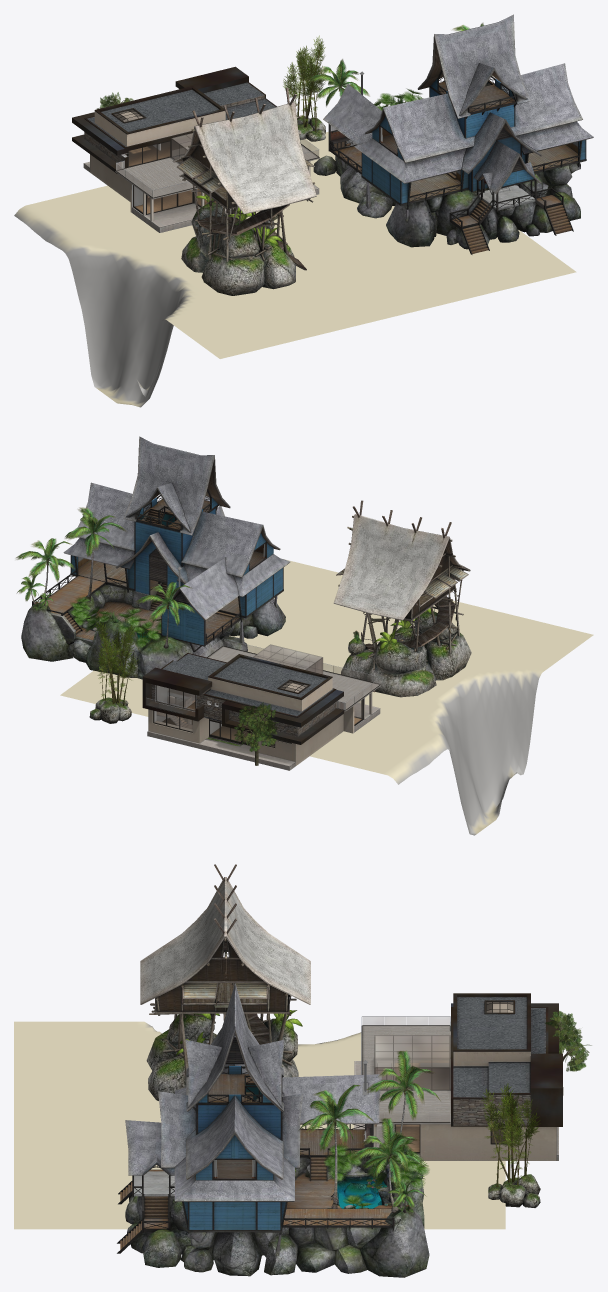
3 renders of one model, top to bottom at view 1: azimuth 30°, elevation 25°; view 2: azimuth 150°, elevation 25°; view 3: azimuth 270°, elevation 25°, orthographic. The views are drawn at different scales.
Visible parts, largest first — view 1: Terrain 1,2, prim0-mesh_0 (×12), Tiki Morunga house - brown_white (×2), MESHWORX The Retreat v1#9, MESHWORX The Retreat v1#76, Tiki Bamboo cluster (yellow) on reef rocks - landscape, MESHWORX The Retreat v1#3, MESHWORX The Retreat v1#55, MESHWORX The Retreat v1#75, MESHWORX The Retreat v1#31; view 2: prim0-mesh_0 (×15), Terrain 1,2, Tiki Morunga house - brown_white (×2), MESHWORX The Retreat v1#9, Tiki Bamboo cluster (yellow) on reef rocks - landscape, MESHWORX The Retreat v1#55, MESHWORX The Retreat v1#13, MESHWORX The Retreat v1#76, Tree small, MESHWORX The Retreat v1#59, * House Tiki Japan stile, MESHWORX The Retreat v1#35 (+4 smaller); view 3: prim0-mesh_0 (×16), Terrain 1,2, Tiki Morunga house - brown_white (×3), MESHWORX The Retreat v1#9, Tiki Bamboo cluster (yellow) on reef rocks - landscape, MESHWORX The Retreat v1#59, MESHWORX The Retreat v1#76, MESHWORX The Retreat v1#35, Tree small, MESHWORX The Retreat v1#77, MESHWORX The Retreat v1#3, MESHWORX The Retreat v1#69 (+1 smaller).
Boxes of the visible parts, x1=… form: Terrain 1,2: x1=14, y1=131, x2=576, y2=407; prim0-mesh_0 (×12): x1=307, y1=14, x2=593, y2=254; Tiki Morunga house - brown_white (×2): x1=172, y1=88, x2=316, y2=295; MESHWORX The Retreat v1#9: x1=72, y1=66, x2=276, y2=173; MESHWORX The Retreat v1#76: x1=115, y1=144, x2=319, y2=199; Tiki Bamboo cluster (yellow) on reef rocks - landscape: x1=283, y1=35, x2=325, y2=141; MESHWORX The Retreat v1#3: x1=132, y1=184, x2=319, y2=232; MESHWORX The Retreat v1#55: x1=90, y1=154, x2=142, y2=212; MESHWORX The Retreat v1#75: x1=125, y1=135, x2=319, y2=198; MESHWORX The Retreat v1#31: x1=126, y1=140, x2=171, y2=167; prim0-mesh_0 (×15): x1=16, y1=436, x2=290, y2=679; Terrain 1,2: x1=60, y1=559, x2=593, y2=835; Tiki Morunga house - brown_white (×2): x1=333, y1=500, x2=471, y2=697; MESHWORX The Retreat v1#9: x1=142, y1=653, x2=343, y2=744; Tiki Bamboo cluster (yellow) on reef rocks - landscape: x1=89, y1=621, x2=138, y2=723; MESHWORX The Retreat v1#55: x1=258, y1=706, x2=354, y2=765; MESHWORX The Retreat v1#13: x1=147, y1=731, x2=295, y2=770; MESHWORX The Retreat v1#76: x1=167, y1=646, x2=381, y2=711; Tree small: x1=234, y1=702, x2=278, y2=751; MESHWORX The Retreat v1#59: x1=148, y1=685, x2=221, y2=743; * House Tiki Japan stile: x1=132, y1=509, x2=176, y2=610; MESHWORX The Retreat v1#35: x1=253, y1=644, x2=322, y2=674; prim0-mesh_0 (×16): x1=117, y1=983, x2=440, y2=1277; Terrain 1,2: x1=14, y1=1021, x2=505, y2=1229; Tiki Morunga house - brown_white (×3): x1=140, y1=864, x2=310, y2=1100; MESHWORX The Retreat v1#9: x1=451, y1=993, x2=562, y2=1126; Tiki Bamboo cluster (yellow) on reef rocks - landscape: x1=481, y1=1083, x2=540, y2=1207; MESHWORX The Retreat v1#59: x1=420, y1=1124, x2=556, y2=1160; MESHWORX The Retreat v1#76: x1=361, y1=1026, x2=450, y2=1124; MESHWORX The Retreat v1#35: x1=374, y1=1035, x2=450, y2=1090; Tree small: x1=545, y1=1010, x2=591, y2=1071; MESHWORX The Retreat v1#77: x1=395, y1=1068, x2=509, y2=1150; MESHWORX The Retreat v1#3: x1=354, y1=1061, x2=502, y2=1157; MESHWORX The Retreat v1#69: x1=362, y1=1016, x2=449, y2=1025.
Size of what is drawn, in the model's own units: 80.1 by 51.81 by 75.52.
191 materials, 189 textured.
